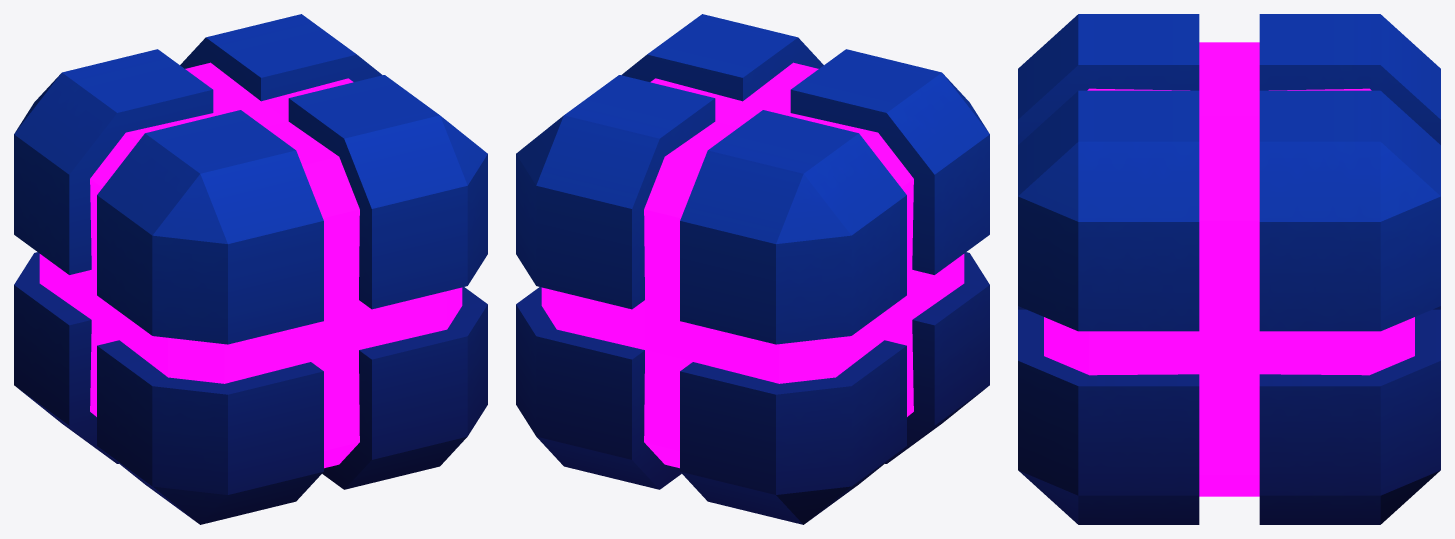
The model's file is item_018.fbx.
3 renders of one model, left to right at view 1: azimuth 30°, elevation 25°; view 2: azimuth 150°, elevation 25°; view 3: azimuth 270°, elevation 25°, orthographic. The views are drawn at different scales.
Visible parts, largest first — view 1: item.018; view 2: item.018; view 3: item.018.
Part boxes in pixels (x1,y1,x2,y2): item.018: (14, 14, 487, 524); item.018: (516, 14, 989, 524); item.018: (1018, 14, 1440, 524).
Bounding box in the file's own units: 104 × 104 × 104.
